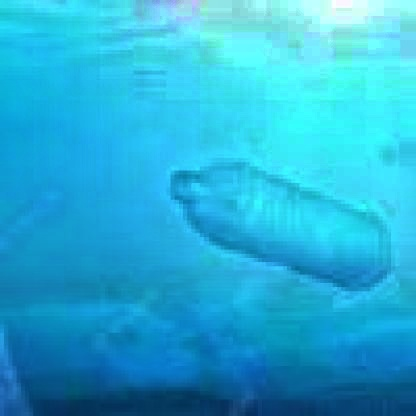pbottle: (150, 133, 395, 308)
